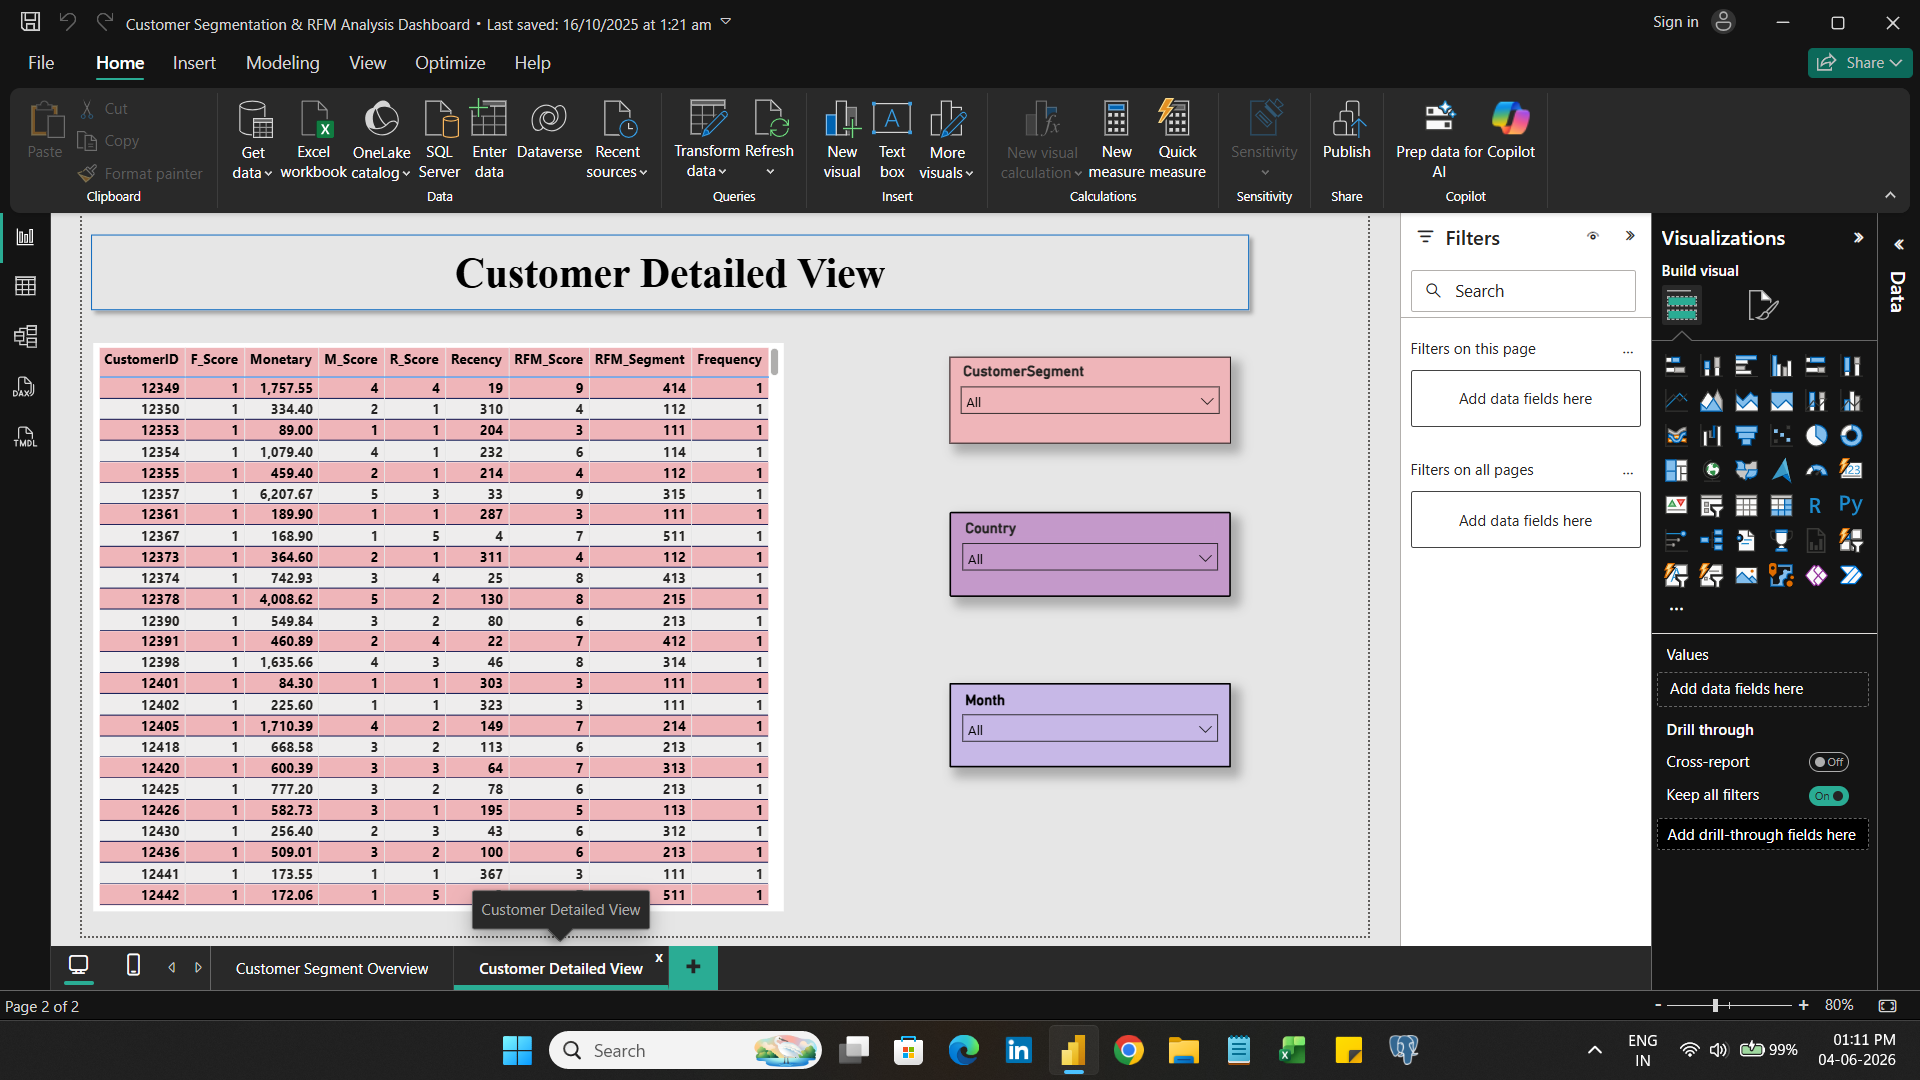

Layout of this report page (visuals, bound fields, positions):
{"tool":"powerbi","page":{"name":"Customer Detailed View","canvas":[1280,720],"ordinal":1},"visuals":[{"type":"tableEx","fields":{"Values":["customer_rfm_segments (2).CustomerID","customer_rfm_segments (2).F_Score","customer_rfm_segments (2).Monetary","customer_rfm_segments (2).M_Score","customer_rfm_segments (2).R_Score","customer_rfm_segments (2).Recency","customer_rfm_segments (2).RFM_Score","customer_rfm_segments (2).RFM_Segment","customer_rfm_segments (2).Frequency"]},"box":[11,129,687.5,565.4],"z":0},{"type":"slicer","fields":{"Values":["customer_rfm_segments (2).CustomerSegment"]},"box":[863.1,142.7,279.9,86.4],"z":1000},{"type":"slicer","fields":{"Values":["cleaned_customer_data.Country"]},"box":[863.1,297.8,279.9,85.1],"z":2000},{"type":"slicer","fields":{"Values":["cleaned_customer_data.Month"]},"box":[863.1,467.9,279.9,83.7],"z":3000},{"type":"shape","box":[0,12.3,1170.5,93.3],"z":4000}]}

Visuals, with their boxes on the page's 1280x720 design canvas (x1, y1, x2, y2). These are canvas units, not pixel positions in the 1920x1080 screenshot, which may show the page scaled, cropped or inside an application window:
tableEx - customer_rfm_segments (2).CustomerID x customer_rfm_segments (2).F_Score: 11 129 698 694
slicer - customer_rfm_segments (2).CustomerSegment: 863 143 1143 229
slicer - cleaned_customer_data.Country: 863 298 1143 383
slicer - cleaned_customer_data.Month: 863 468 1143 552
shape: 0 12 1170 106
